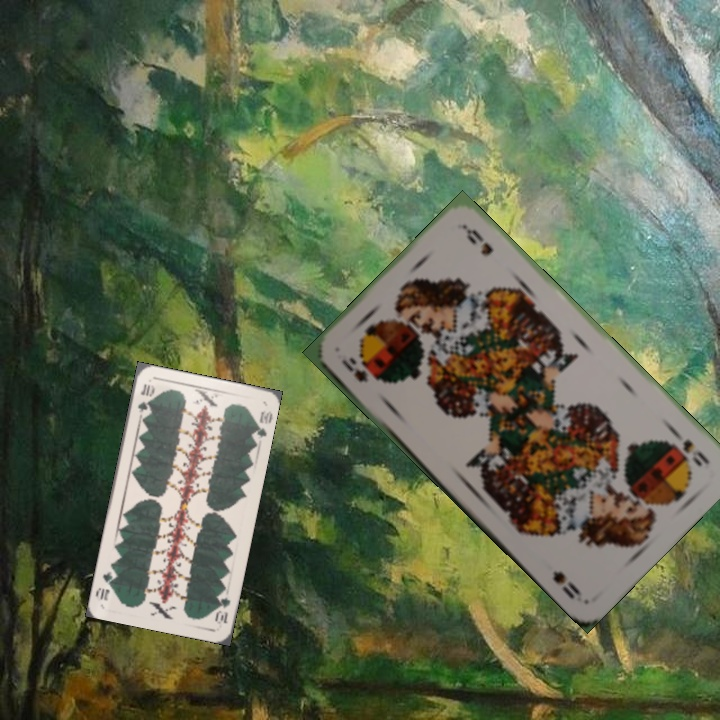G10: (134, 380, 156, 415), (211, 593, 233, 627)
SO: (667, 425, 713, 470), (337, 353, 371, 385)
